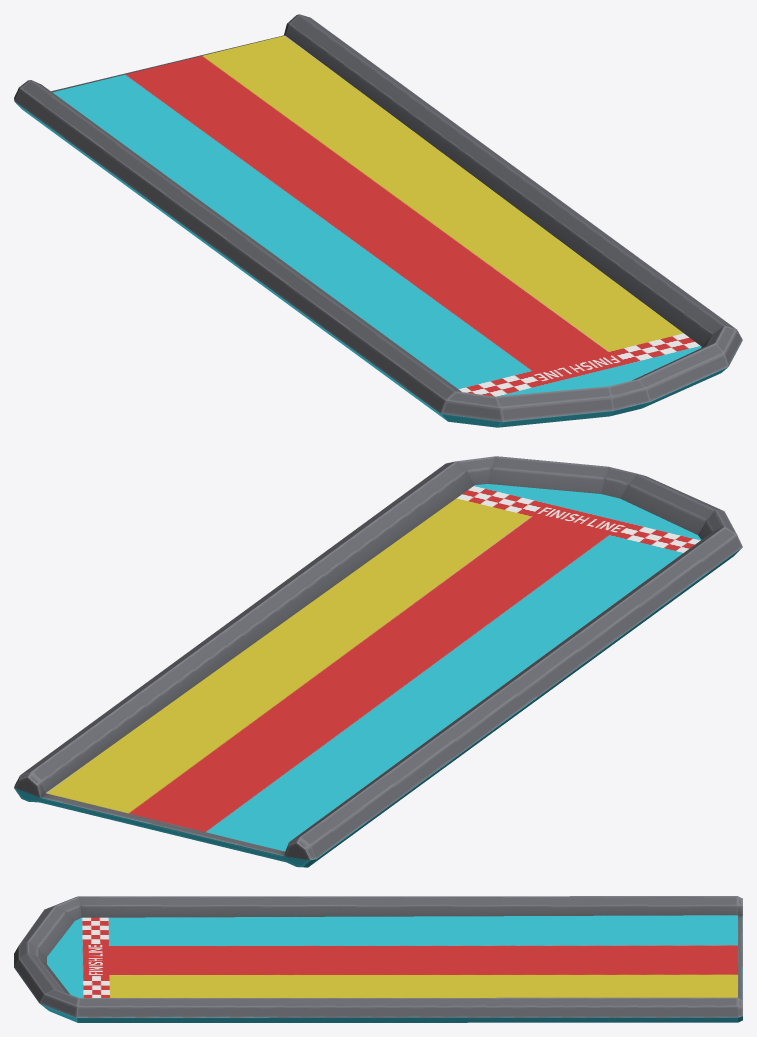
File: SlipNslide.obj
The picture shows the model from 3 angles, top to bottom: view 1: azimuth 30°, elevation 25°; view 2: azimuth 150°, elevation 25°; view 3: azimuth 270°, elevation 25°; orthographic projection. The views are drawn at different scales.
Parts seen in each view (by area): view 1: SlipNslide_mesh; view 2: SlipNslide_mesh; view 3: SlipNslide_mesh.
Part boxes in pixels (box(x1,y1,x2,y2)): SlipNslide_mesh: box(14, 14, 742, 427); SlipNslide_mesh: box(14, 456, 742, 867); SlipNslide_mesh: box(14, 896, 742, 1022).
Size of the model in its own units: 7.94 by 0.7481 by 21.38.
1 material, 1 textured.
